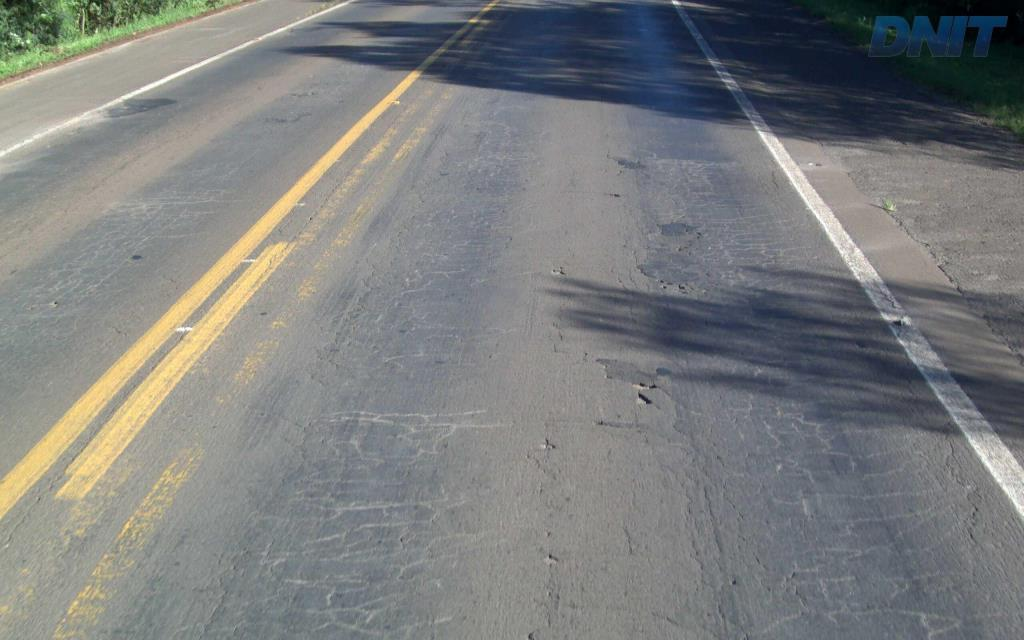pothole: (634, 395, 655, 409), (632, 380, 656, 391)
